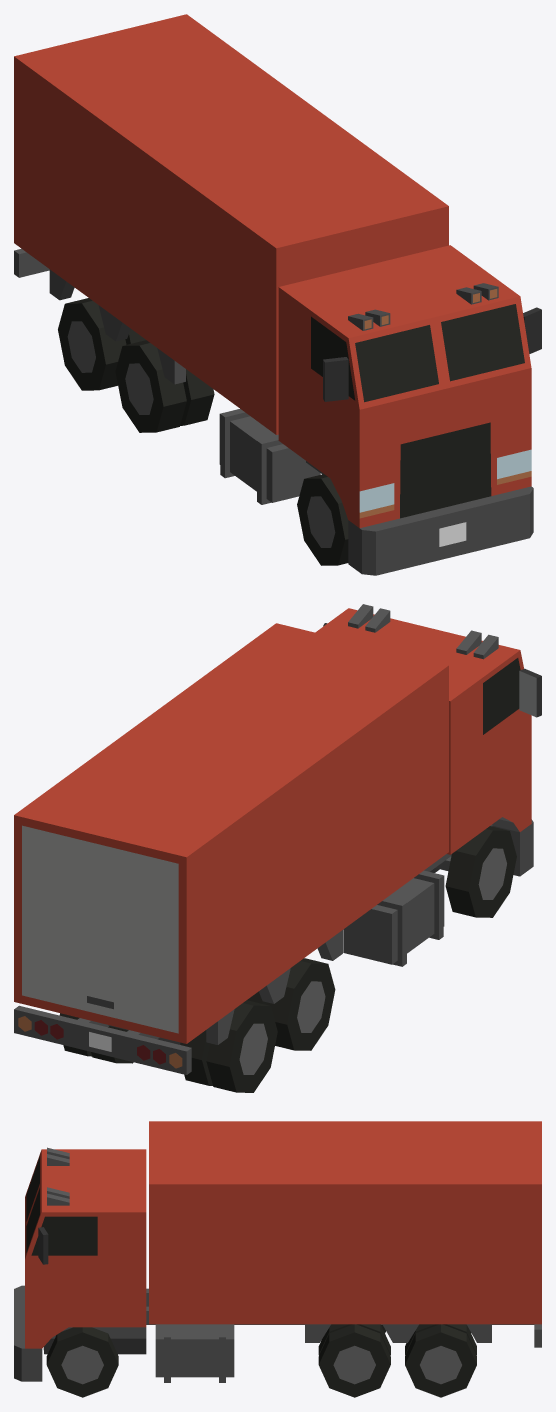
The model's file is Veh_Truck_03_Red.obj.
3 renders of one model, top to bottom at view 1: azimuth 30°, elevation 25°; view 2: azimuth 150°, elevation 25°; view 3: azimuth 270°, elevation 25°, orthographic. The views are drawn at different scales.
Size of the model in its own units: 1.68 by 2.11 by 4.74.
